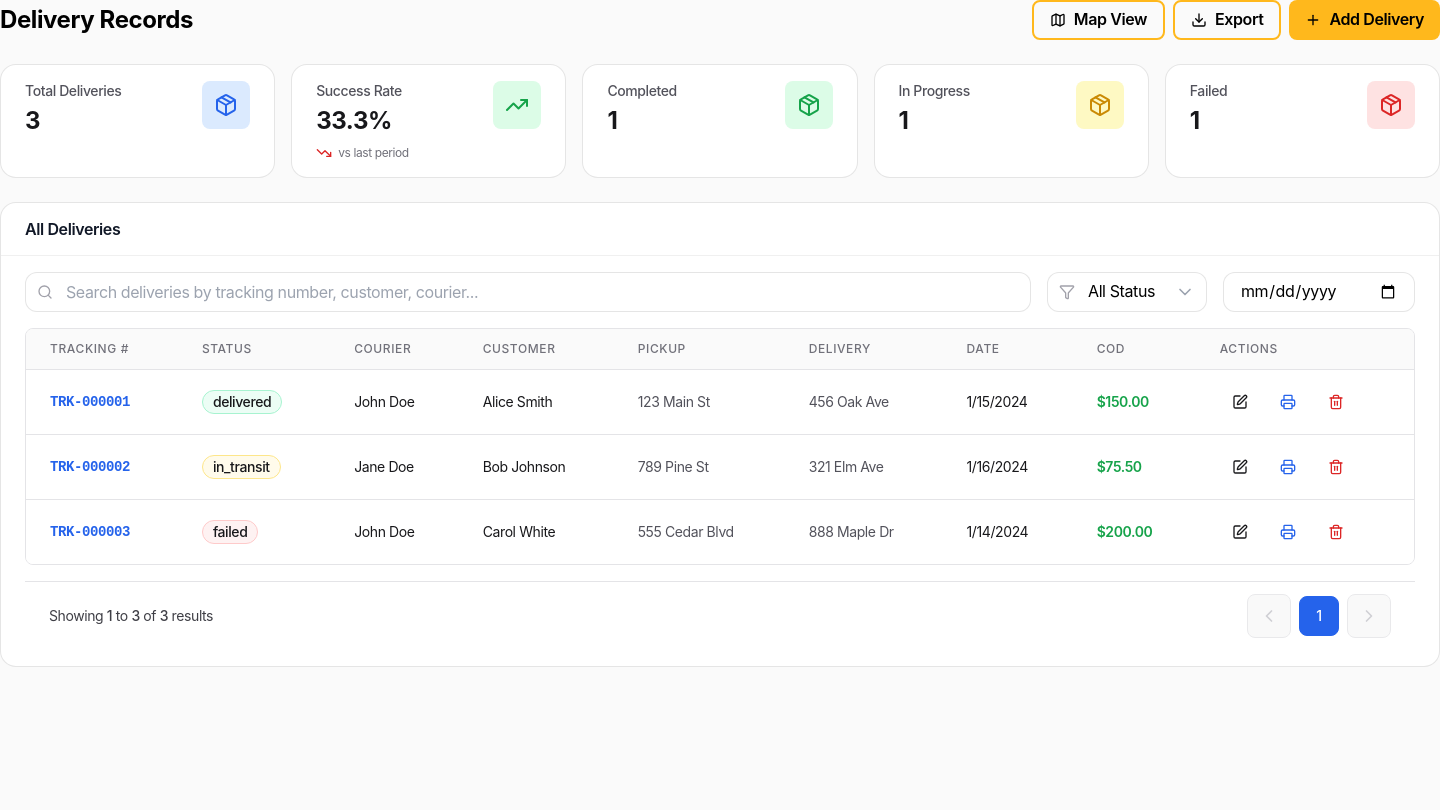
Test: Deliveries › opens modal when Add Delivery button is clicked
Click the button "Add Delivery" at point(1365, 20), box [1289,0,1439,40]
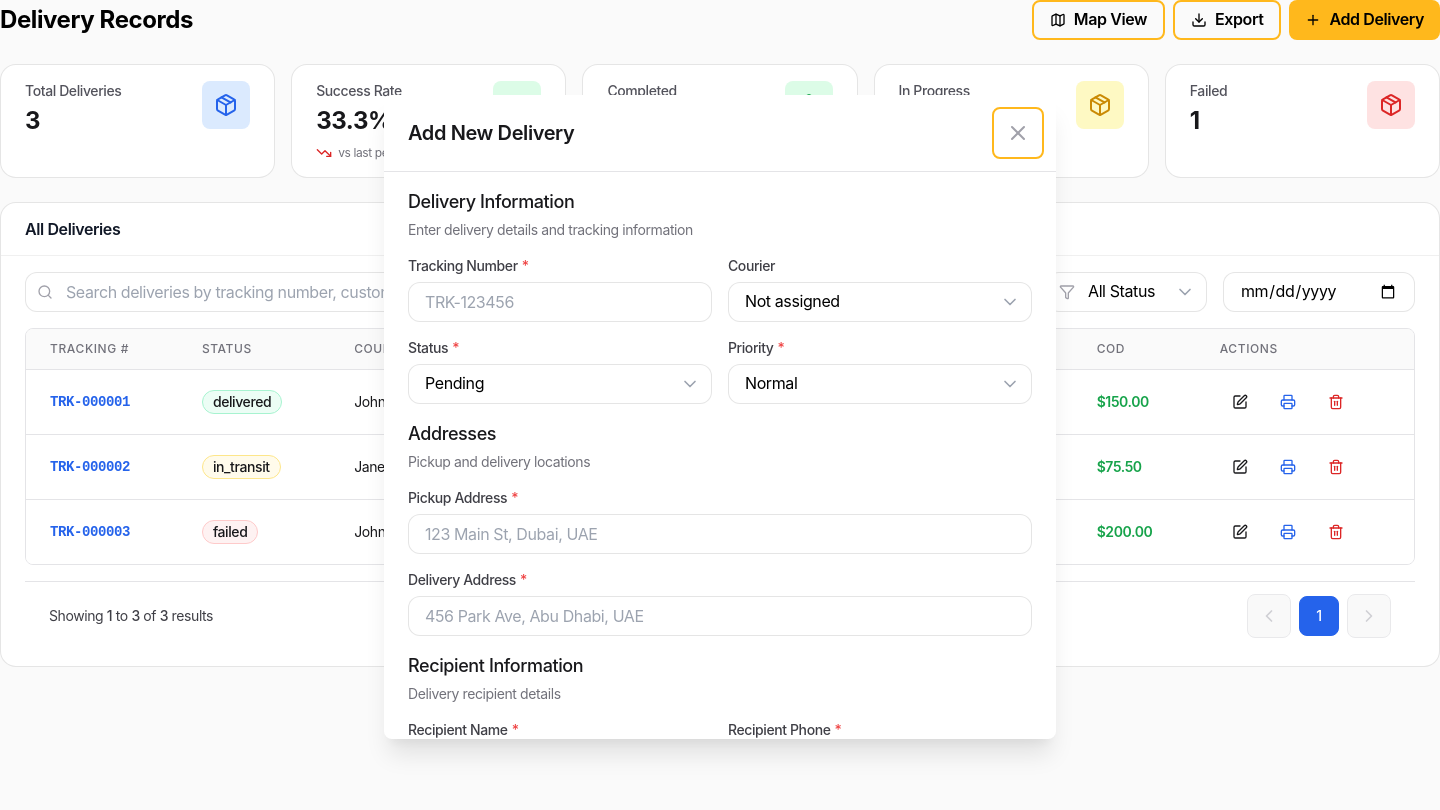
Expected: the heading "Add New Delivery" is shown, [408,119,574,147]
